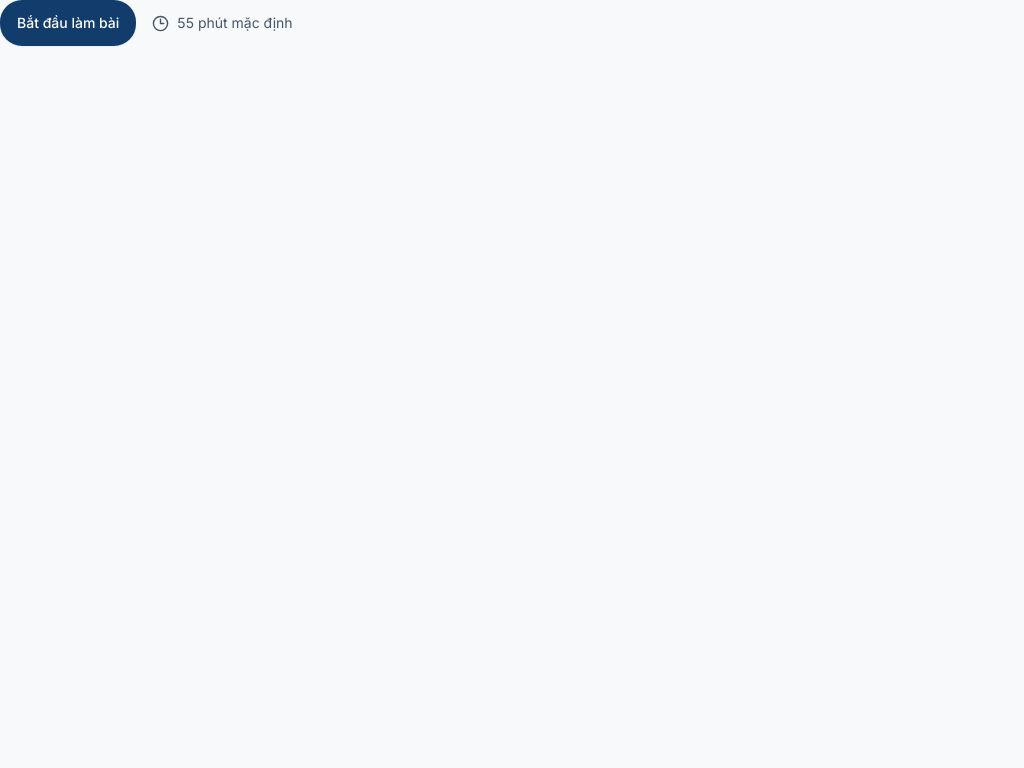
it: combines exam timing and grading choices without navigating for an invalid duration
Later steps or results of the test are not shown.
Click the button "Bắt đầu làm bài" at (68, 23), box [0,0,136,46]
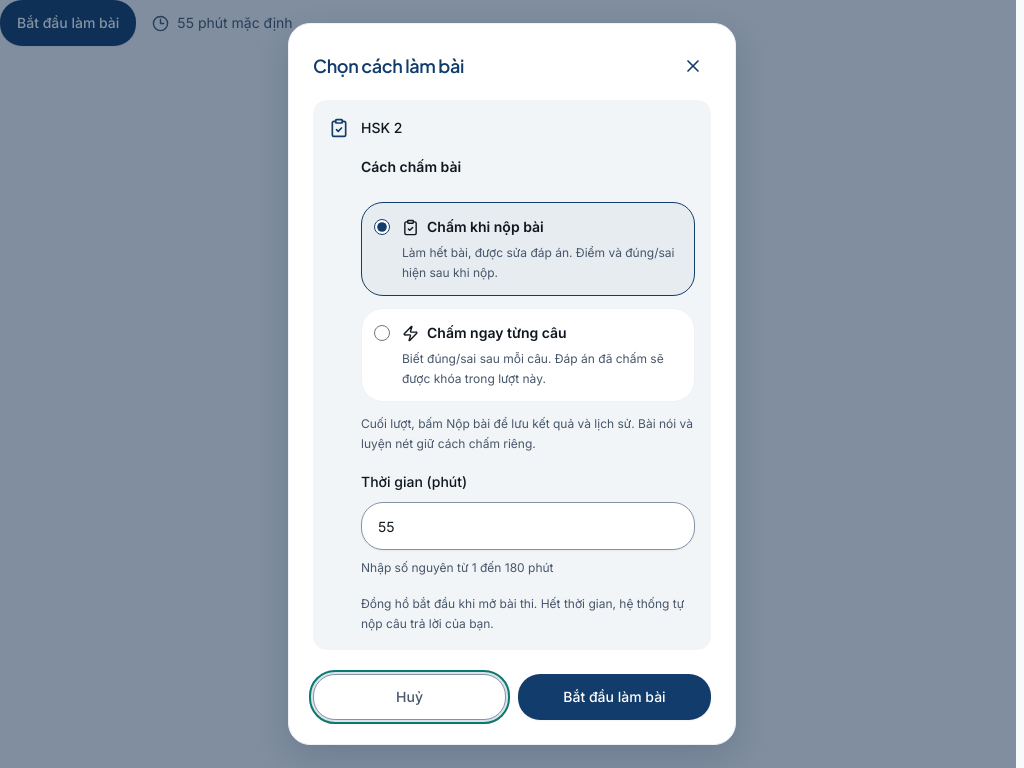
Replace the text in the field labelled "Thời gian (phút)" with "1.5" at (528, 526), box [361,502,695,550]
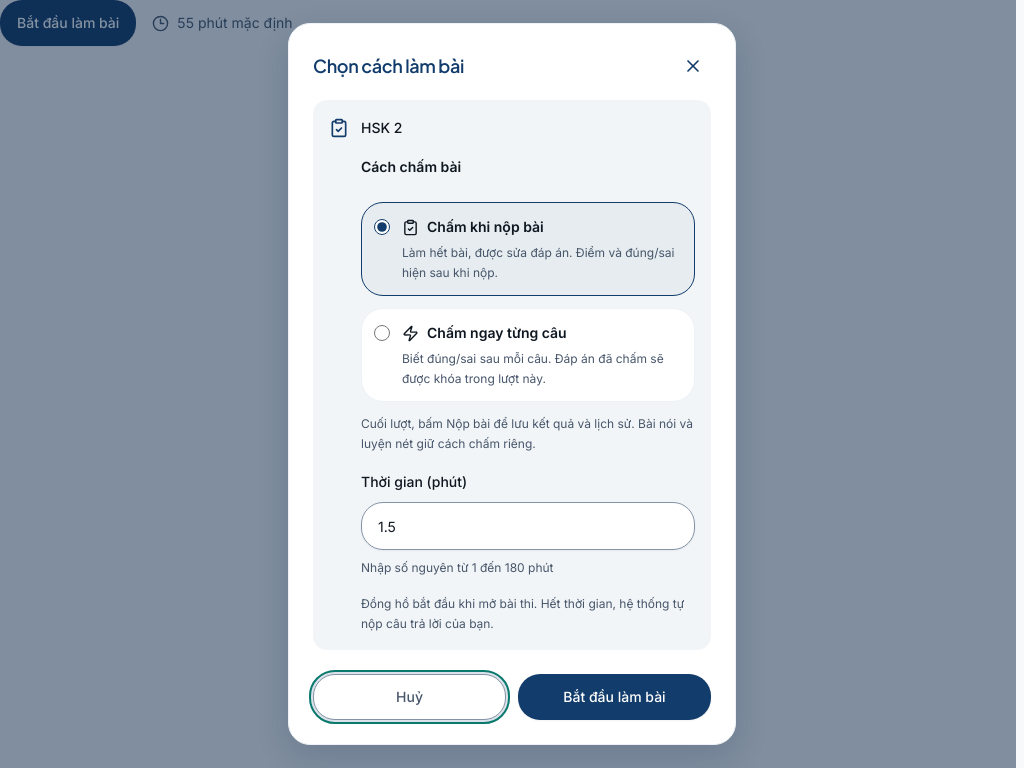
Click the button "Bắt đầu làm bài" at (614, 697), box [518,674,711,720]
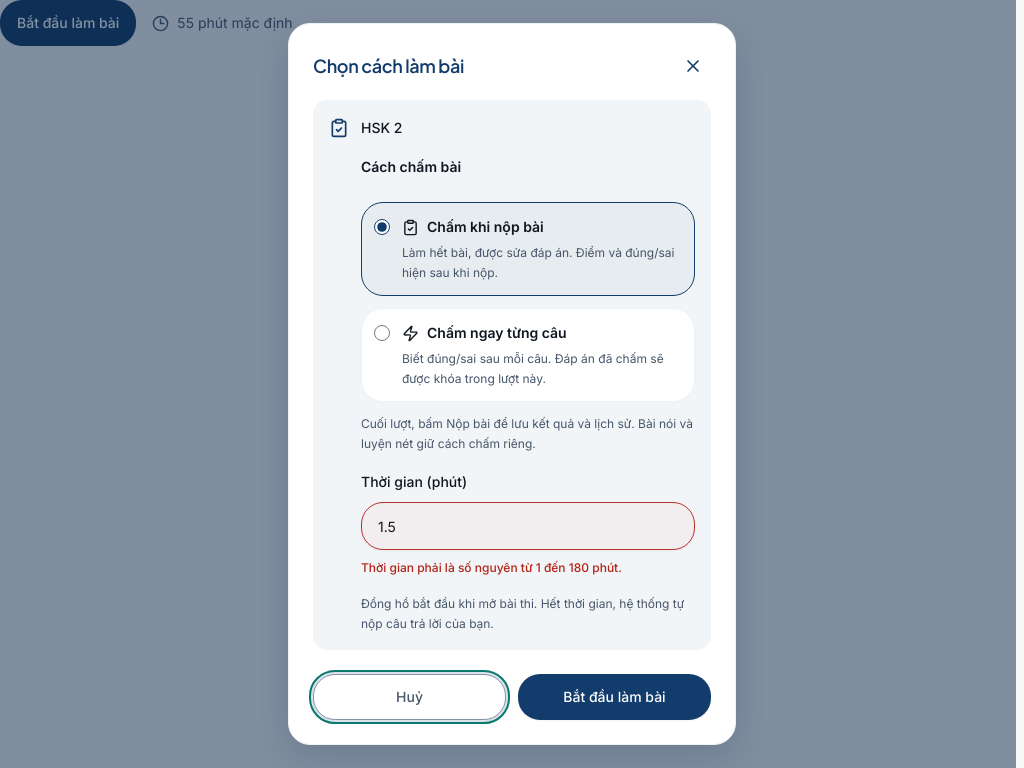
Now the text "Thời gian phải là số nguyên từ 1 đến 180 phút." is shown, box [361,560,622,575]
